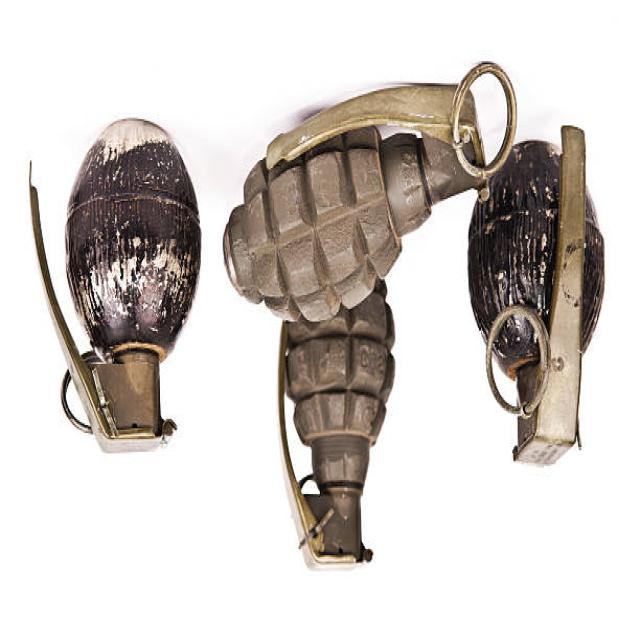grenade: (221, 56, 520, 331), (26, 109, 206, 459), (464, 126, 611, 473), (274, 279, 400, 574)
